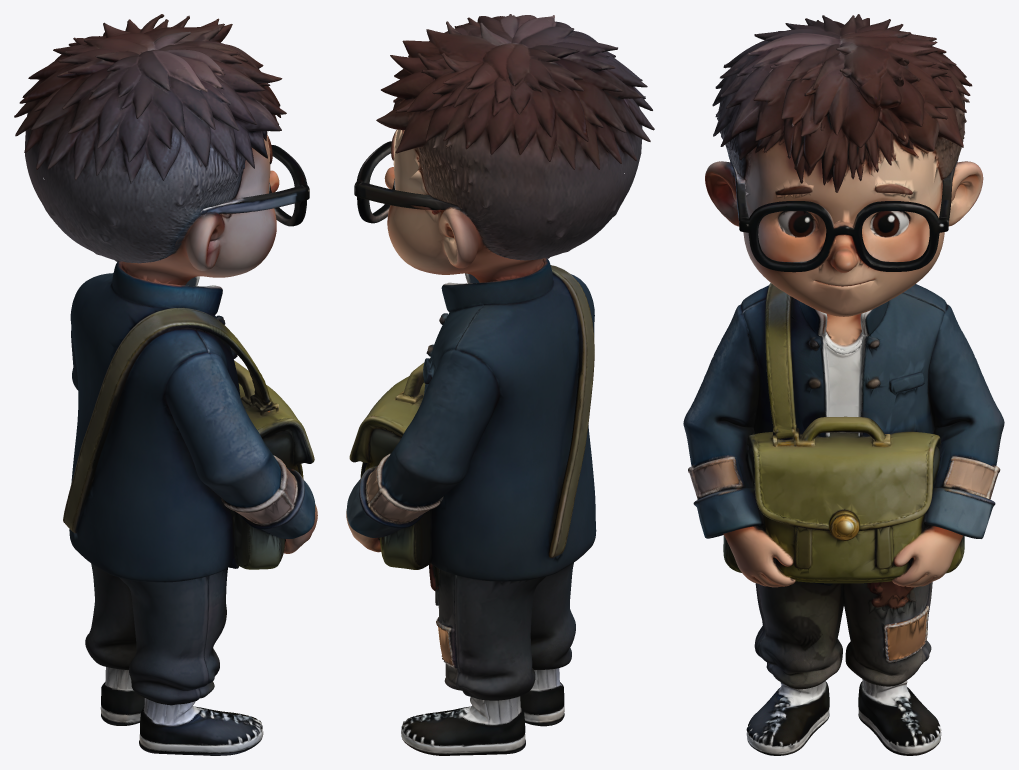
The model's file is player-boy.glb.
3 views of the same model, side by side, from view 1: azimuth 30°, elevation 25°; view 2: azimuth 150°, elevation 25°; view 3: azimuth 270°, elevation 25° (orthographic).
Parts seen in each view (by area): view 1: tripo_node_818f3a53-9348-4927-a111-c7b5b3b87590; view 2: tripo_node_818f3a53-9348-4927-a111-c7b5b3b87590; view 3: tripo_node_818f3a53-9348-4927-a111-c7b5b3b87590.
Boxes of the visible parts, x1,y1,x2,y2 form: tripo_node_818f3a53-9348-4927-a111-c7b5b3b87590: (14, 14, 317, 755); tripo_node_818f3a53-9348-4927-a111-c7b5b3b87590: (346, 14, 654, 755); tripo_node_818f3a53-9348-4927-a111-c7b5b3b87590: (683, 14, 1004, 755).
Bounding box in the file's own units: 0.3844 × 0.9635 × 0.4052.
Materials: 1 (1 with a texture image).
